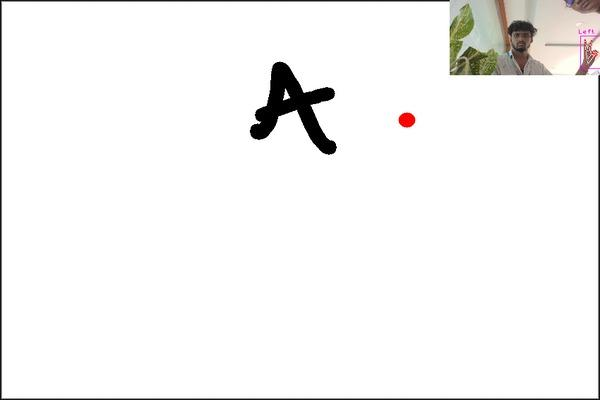A: (240, 59, 353, 159)
